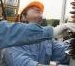gloves: (52, 22, 75, 38), (63, 40, 75, 65)
hard-hat: (0, 0, 23, 13)
